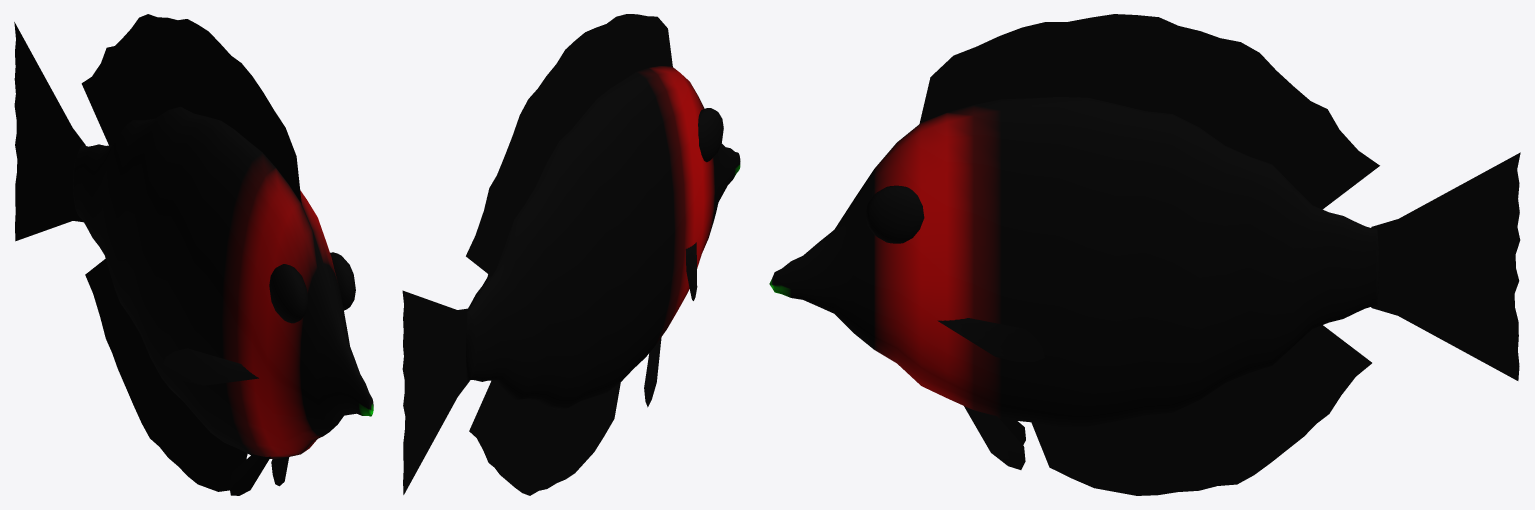
File: yellow-tang.glb
The picture shows the model from 3 angles, left to right: view 1: azimuth 30°, elevation 25°; view 2: azimuth 150°, elevation 25°; view 3: azimuth 270°, elevation 25°; orthographic projection. The views are drawn at different scales.
Visible parts, largest first — view 1: tang_body, tang_dorsal, tang_anal, tang_caudal, tang_pectoralL, tang_eyeL, tang_pelvicL, tang_eyeR; view 2: tang_body, tang_dorsal, tang_anal, tang_caudal, tang_eyeL, tang_pelvicL, tang_pectoralL; view 3: tang_body, tang_dorsal, tang_anal, tang_caudal, tang_eyeR, tang_pectoralR, tang_pelvicR.
Part boxes in pixels (bbox=[...]): tang_body: bbox=[73, 106, 373, 459]; tang_dorsal: bbox=[81, 14, 301, 204]; tang_anal: bbox=[85, 259, 247, 491]; tang_caudal: bbox=[14, 22, 85, 241]; tang_pectoralL: bbox=[162, 348, 258, 385]; tang_eyeL: bbox=[269, 264, 308, 323]; tang_pelvicL: bbox=[229, 454, 270, 495]; tang_eyeR: bbox=[330, 252, 355, 310]; tang_body: bbox=[466, 65, 740, 409]; tang_dorsal: bbox=[466, 14, 672, 276]; tang_anal: bbox=[469, 380, 620, 495]; tang_caudal: bbox=[402, 290, 469, 494]; tang_eyeL: bbox=[698, 108, 723, 162]; tang_pelvicL: bbox=[644, 337, 661, 407]; tang_pectoralL: bbox=[685, 242, 697, 300]; tang_body: bbox=[769, 97, 1379, 426]; tang_dorsal: bbox=[919, 14, 1379, 209]; tang_anal: bbox=[1031, 325, 1371, 495]; tang_caudal: bbox=[1371, 152, 1520, 380]; tang_eyeR: bbox=[865, 185, 924, 243]; tang_pectoralR: bbox=[937, 318, 1044, 361]; tang_pelvicR: bbox=[964, 406, 1025, 469].
Bounding box in the file's own units: 0.3186 × 0.8745 × 1.24.
